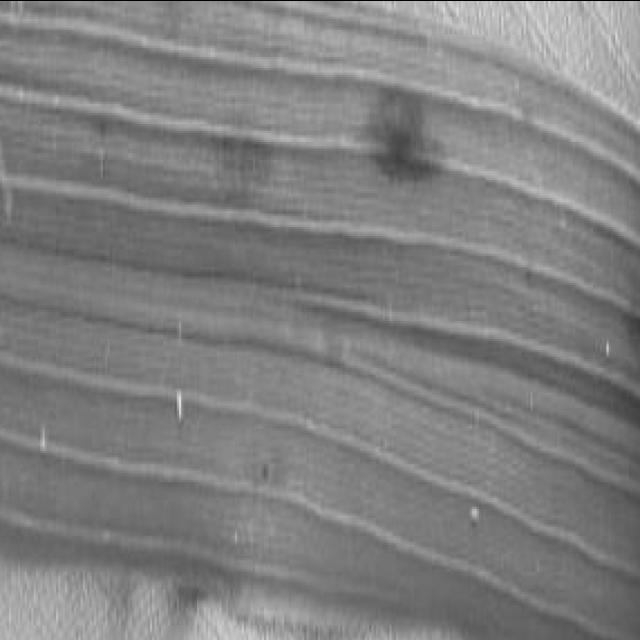Brown_Spot: (358, 76, 461, 212), (202, 112, 278, 206), (252, 454, 286, 496), (516, 258, 548, 300), (92, 112, 116, 146)
